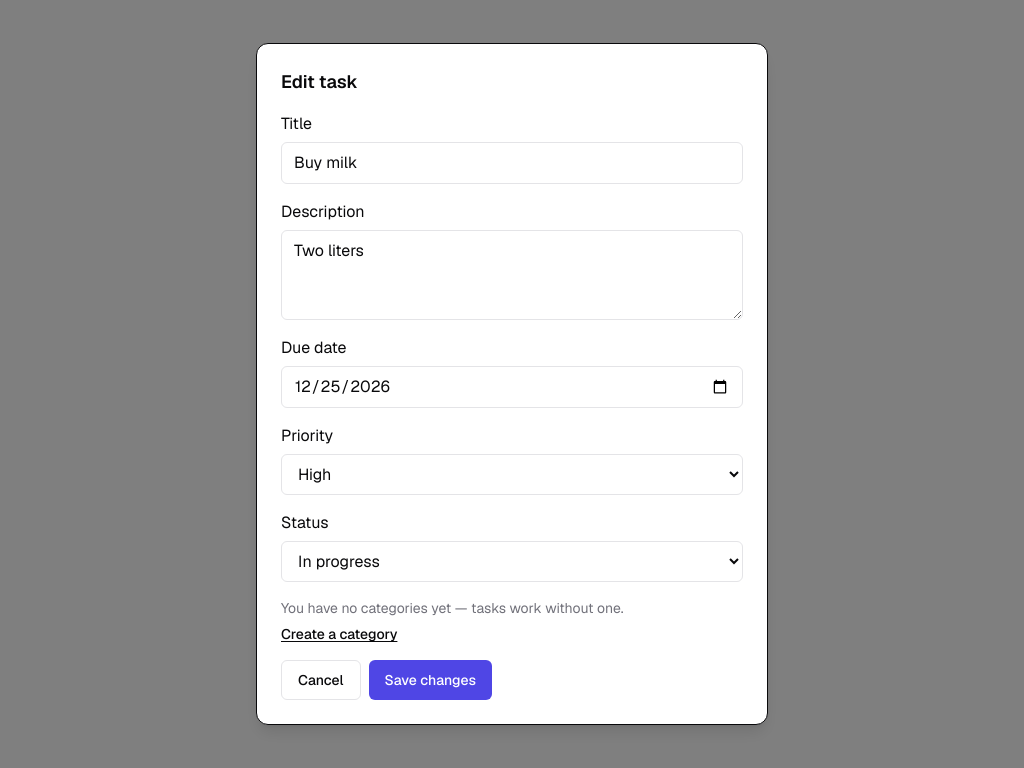
TaskEditSurface › surfaces a validation error from the server near its field without closing
Clear the field labelled "Title" at (512, 163), box 281,142 -> 743,184
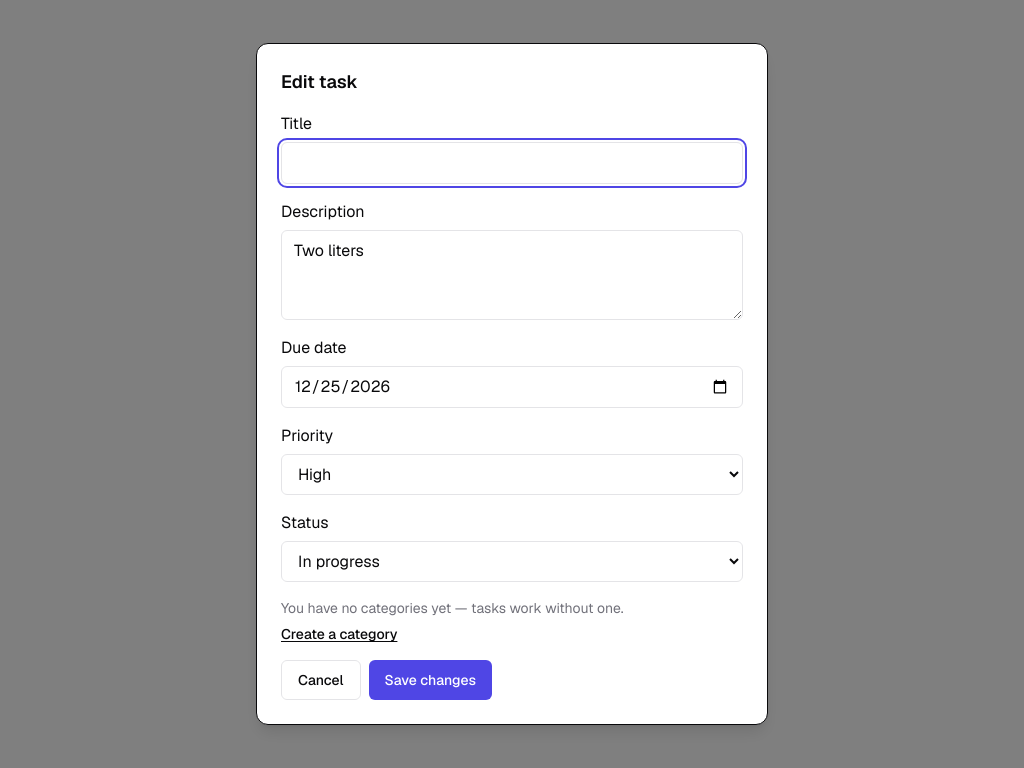
Click the button "Save changes" at (430, 680), box 369,660 -> 492,700
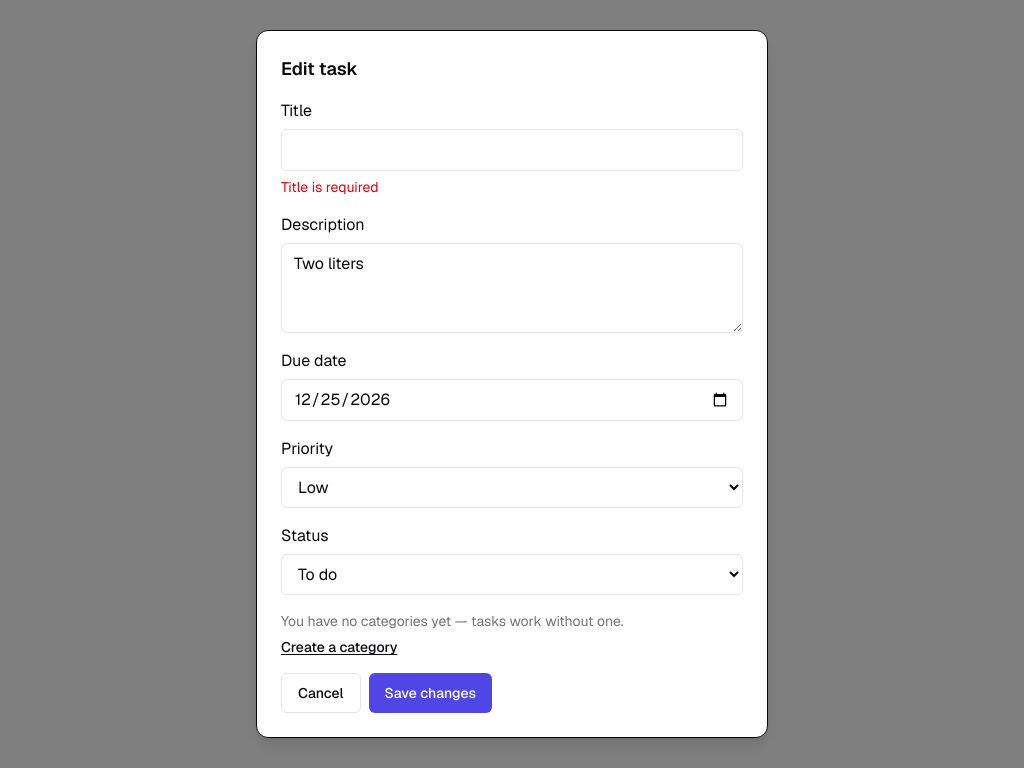
expect the text "Title is required" is shown: met, box 281,178 -> 379,196
